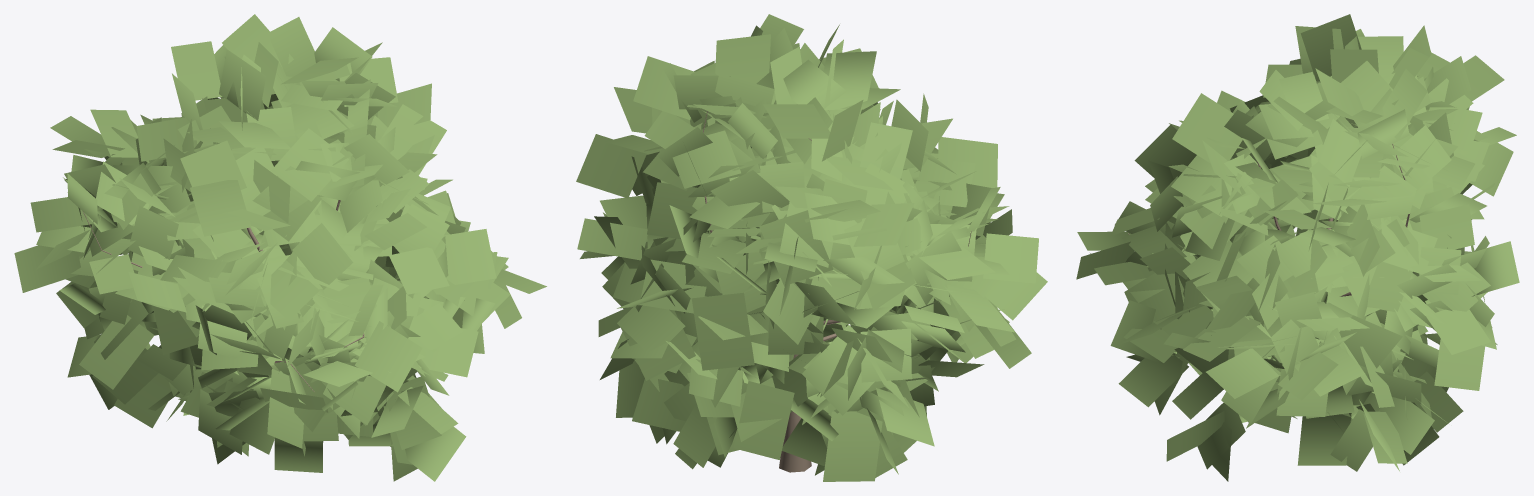
File: Oak_11_young_lod1.glb
The picture shows the model from 3 angles, left to right: view 1: azimuth 30°, elevation 25°; view 2: azimuth 150°, elevation 25°; view 3: azimuth 270°, elevation 25°; orthographic projection. The views are drawn at different scales.
Parts seen in each view (by area): view 1: Oak_11_young_lod1; view 2: Oak_11_young_lod1; view 3: Oak_11_young_lod1.
Part boxes in pixels (x1,y1,x2,y2): Oak_11_young_lod1: [14, 14, 546, 481]; Oak_11_young_lod1: [576, 14, 1047, 481]; Oak_11_young_lod1: [1076, 14, 1519, 481].
Bounding box in the file's own units: 9.75 × 8.55 × 8.29.
